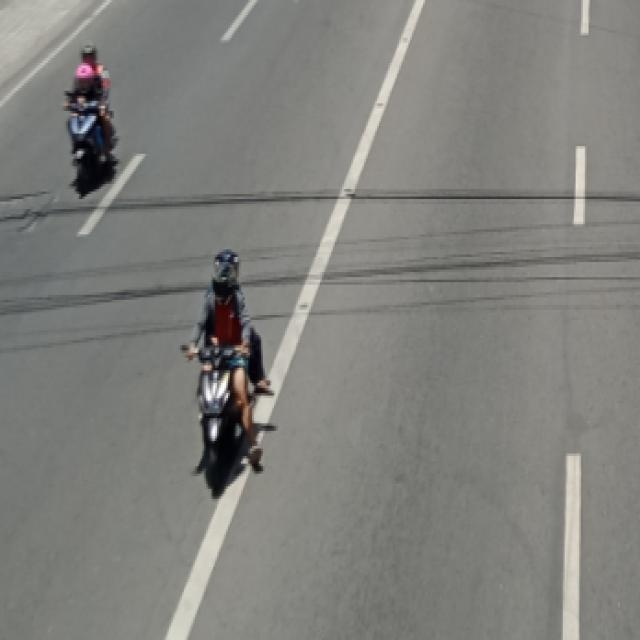Motorcycle: (188, 251, 262, 491), (71, 45, 114, 199)
